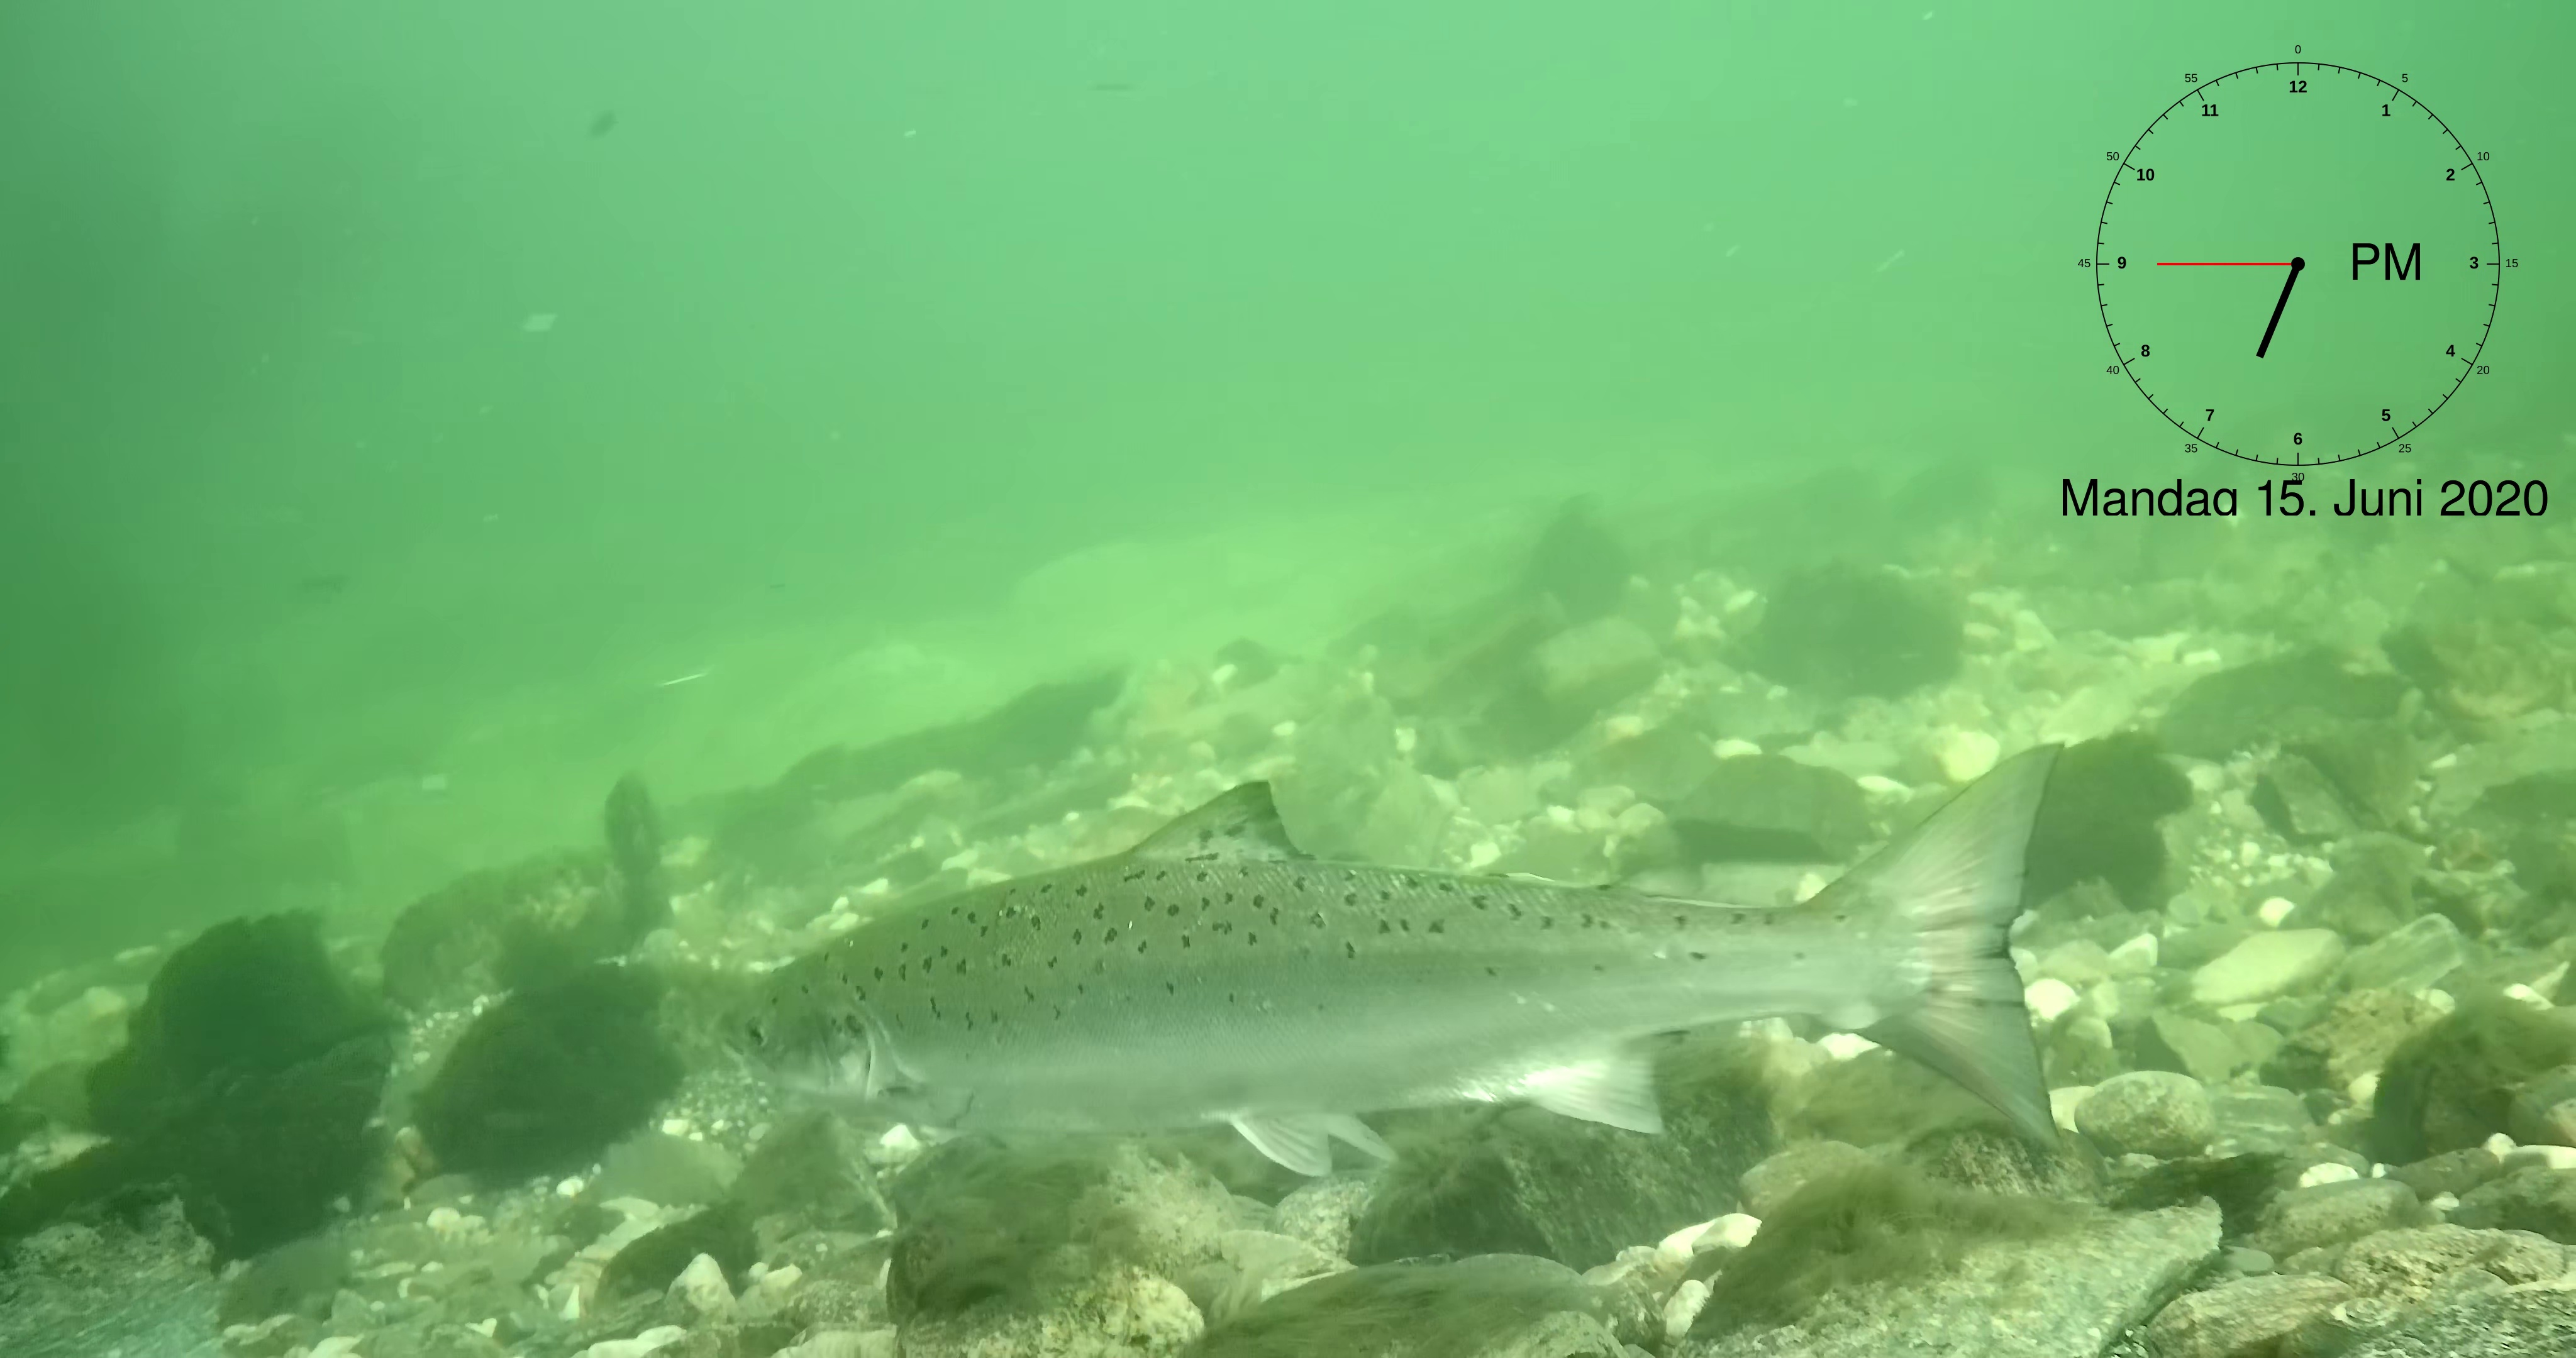salmon: (714, 739, 2067, 1176)
